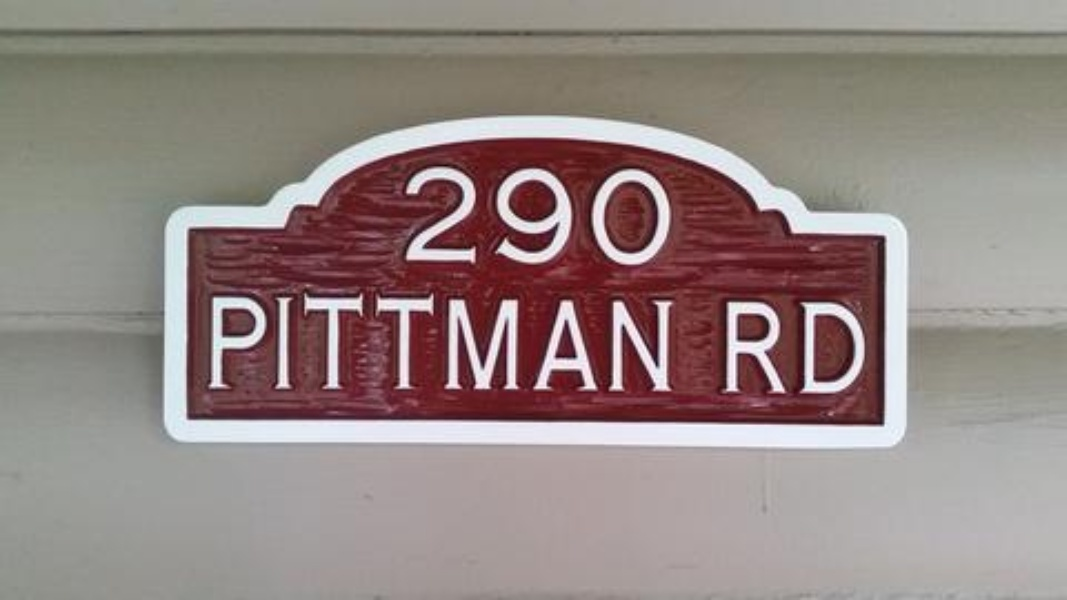text: (209, 289, 224, 394), (225, 289, 240, 394), (241, 289, 256, 394), (257, 289, 272, 394), (273, 289, 288, 394), (289, 289, 304, 394), (305, 289, 320, 394), (321, 289, 336, 394), (337, 289, 352, 394), (353, 289, 368, 394), (369, 289, 384, 394), (385, 289, 400, 394), (401, 289, 416, 394), (417, 289, 432, 394), (433, 289, 448, 394), (449, 289, 464, 394), (465, 289, 480, 394), (481, 289, 496, 394), (497, 289, 512, 394), (513, 289, 528, 394), (529, 289, 544, 394), (545, 289, 560, 394), (561, 289, 576, 394), (577, 289, 592, 394), (593, 289, 608, 394), (609, 289, 624, 394), (625, 289, 640, 394), (641, 289, 656, 394), (657, 289, 672, 394), (417, 165, 432, 267), (433, 165, 448, 267), (449, 165, 464, 267), (465, 165, 480, 267), (481, 165, 496, 267), (497, 165, 512, 267), (513, 165, 528, 267), (529, 165, 544, 267), (545, 165, 560, 267), (561, 165, 576, 267), (577, 165, 592, 267), (593, 165, 608, 267), (609, 165, 624, 267), (625, 165, 640, 267), (641, 165, 656, 267), (657, 165, 672, 267), (737, 298, 752, 398), (753, 298, 768, 398), (769, 298, 784, 398), (785, 298, 800, 398), (801, 298, 816, 398), (817, 298, 832, 398), (833, 298, 848, 398), (849, 298, 864, 398), (403, 165, 416, 267), (727, 298, 736, 398), (673, 289, 678, 394), (865, 298, 867, 398), (673, 165, 674, 267)
